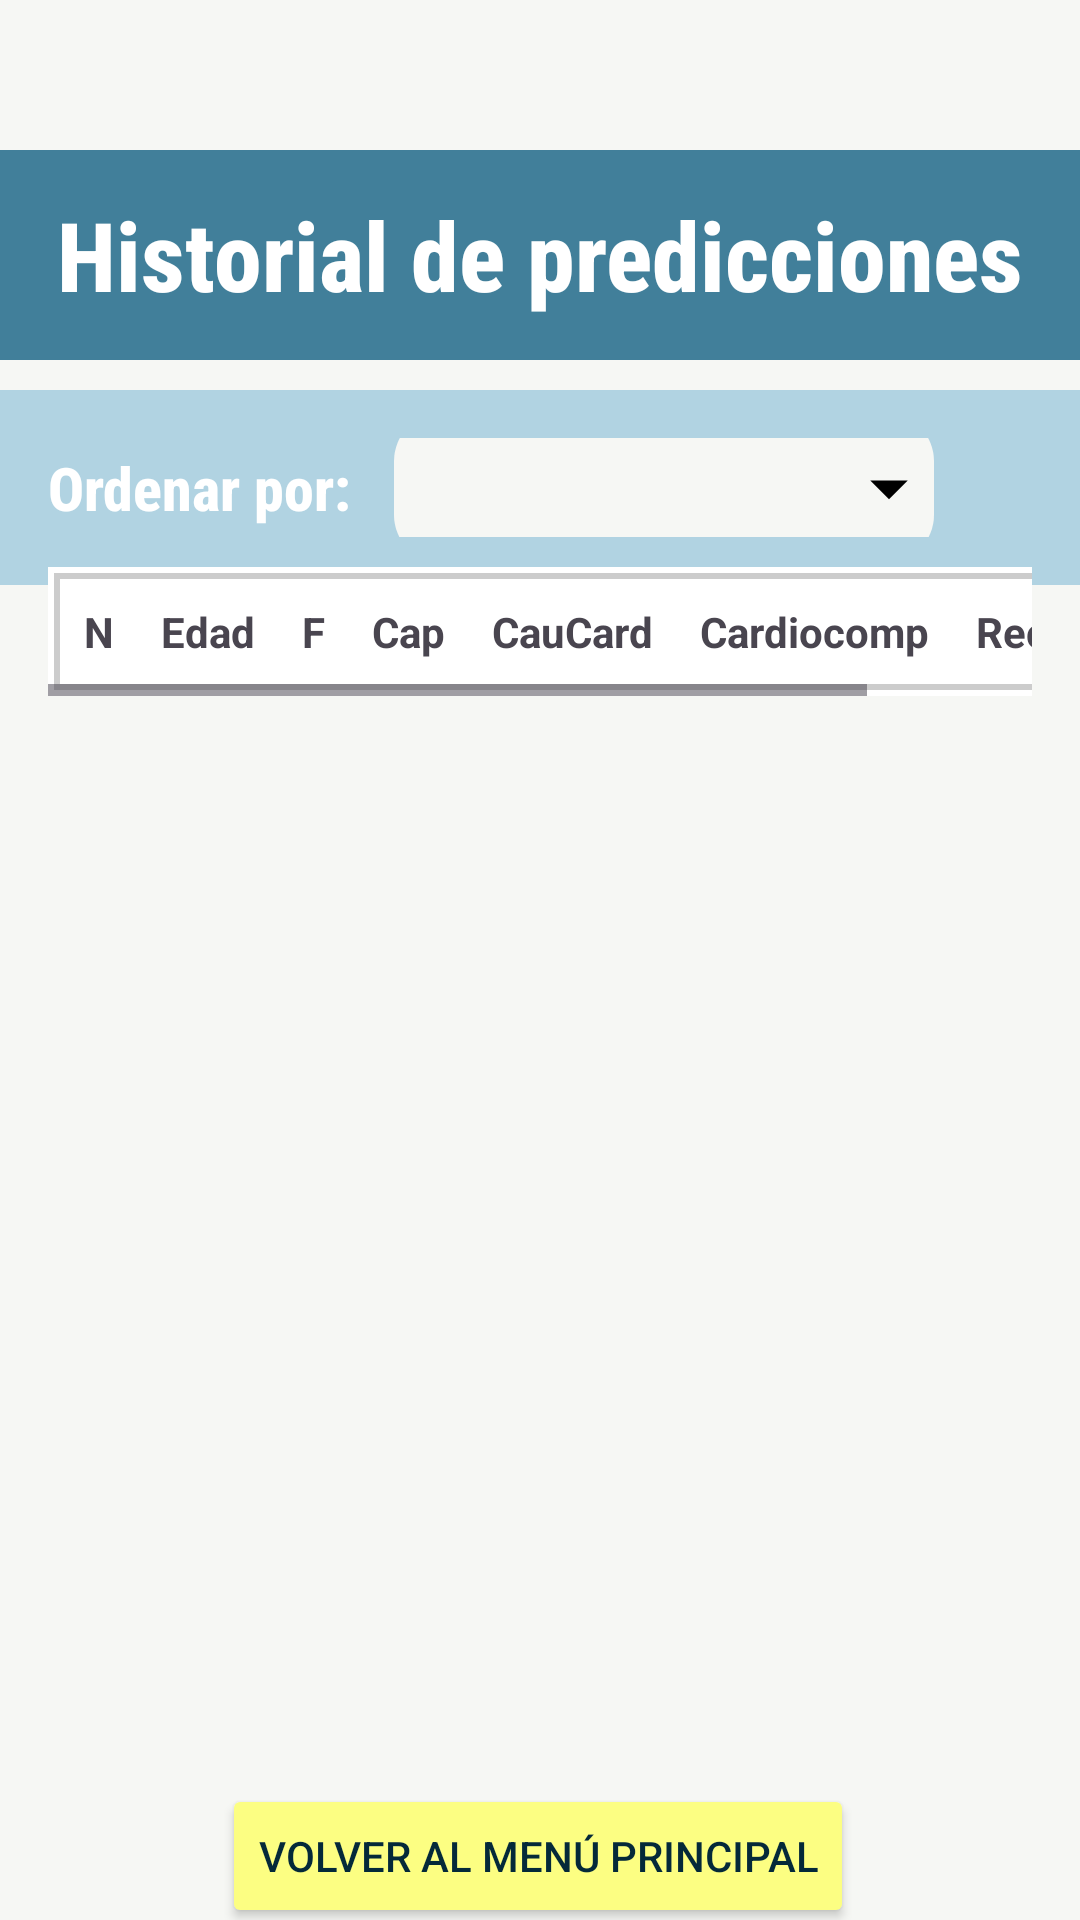

Named icons in this screenshot (1080px×1920px) and their bounding boxes, bbox=[x1, y1, x2, y2]:
arrow down: bbox=[844, 438, 934, 537]
